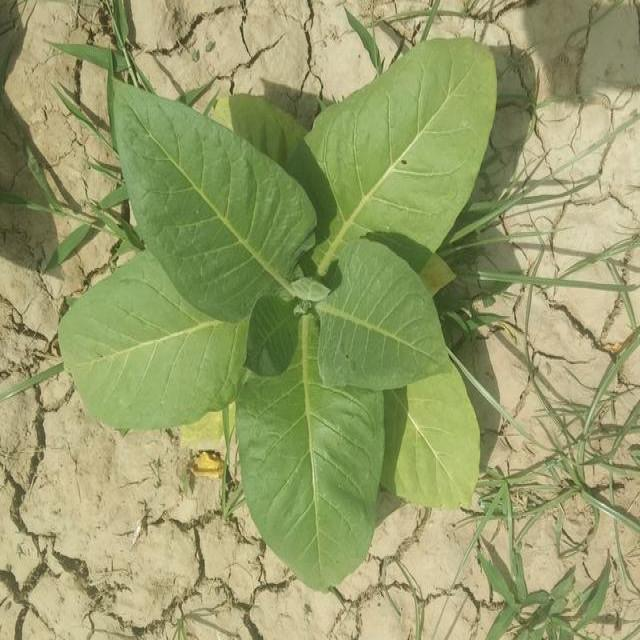crop: (68, 52, 496, 576)
